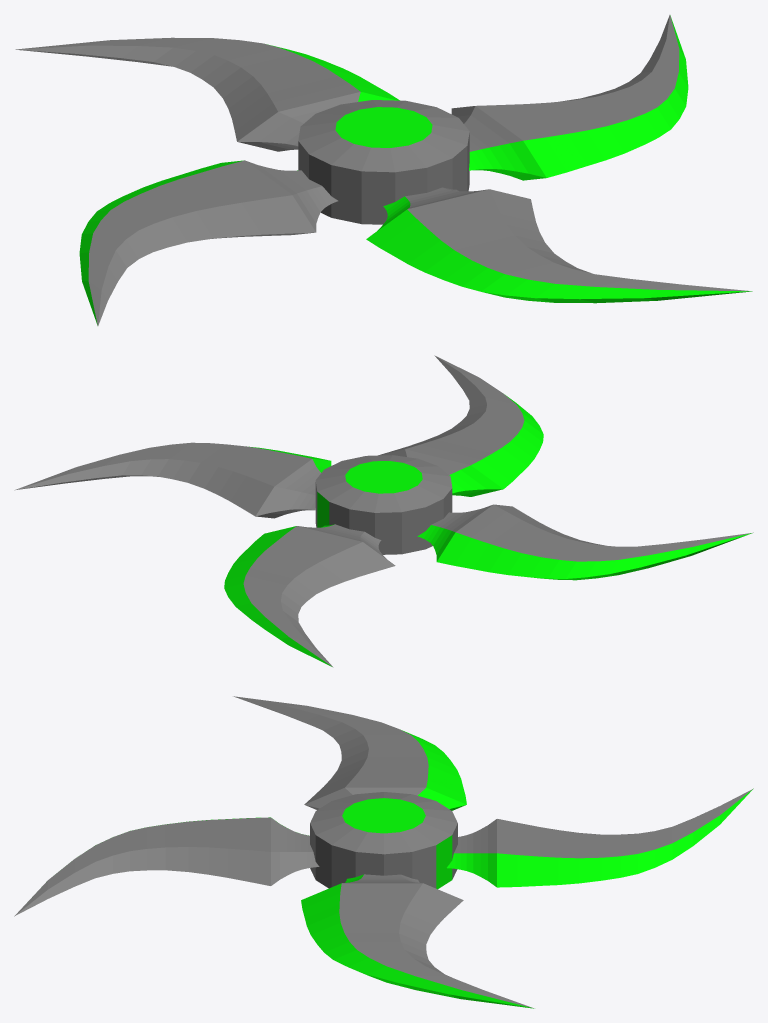
The model's file is Beyblade_Upgraded_Blade.fbx.
3 renders of one model, top to bottom at view 1: azimuth 30°, elevation 25°; view 2: azimuth 150°, elevation 25°; view 3: azimuth 270°, elevation 25°, orthographic. The views are drawn at different scales.
Visible parts, largest first — view 1: Circle.001; view 2: Circle.001; view 3: Circle.001.
Boxes of the visible parts, <box> form: Circle.001: <box>15,15,752,325</box>; Circle.001: <box>14,355,753,667</box>; Circle.001: <box>14,696,753,1008</box>.
Size of the model in its own units: 394 by 35.77 by 394.
1 material, 1 textured.
